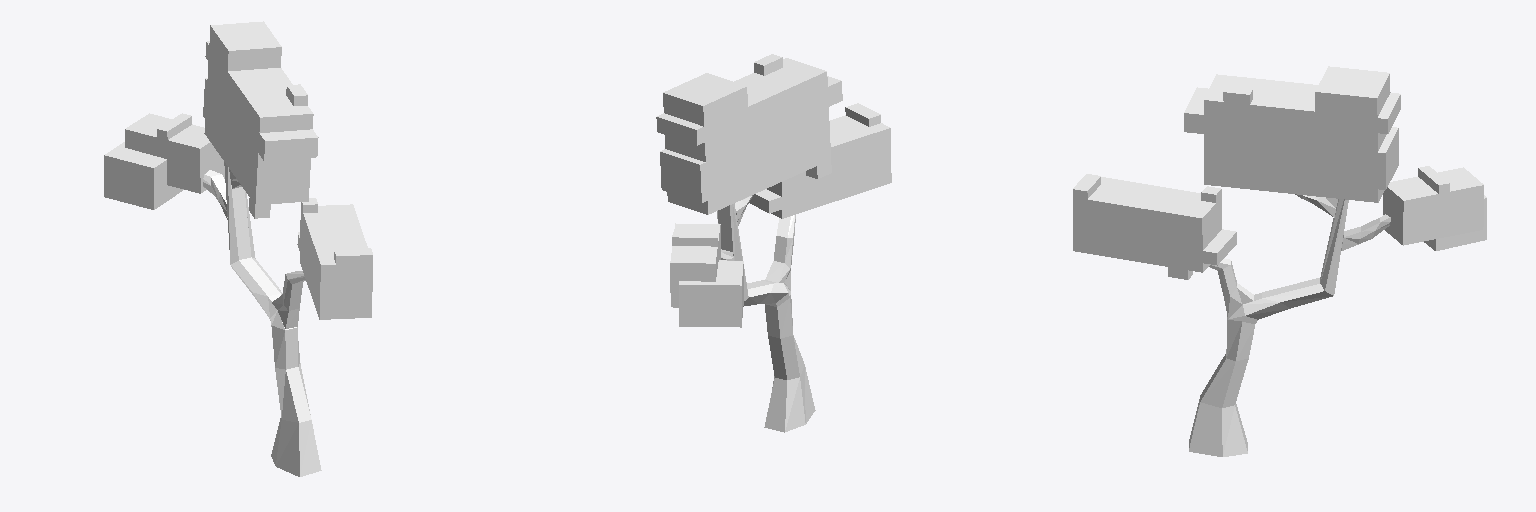
The model's file is Sakura 2.obj.
3 renders of one model, left to right at view 1: azimuth 30°, elevation 25°; view 2: azimuth 150°, elevation 25°; view 3: azimuth 270°, elevation 25°, orthographic.
Visible parts, largest first — view 1: Sakura 2; view 2: Sakura 2; view 3: Sakura 2.
Boxes of the visible parts, x1,y1,x2,y2 form: Sakura 2: [104, 21, 372, 476]; Sakura 2: [656, 54, 891, 432]; Sakura 2: [1073, 66, 1486, 456].
Size of the model in its own units: 1.3 by 3.74 by 3.73.